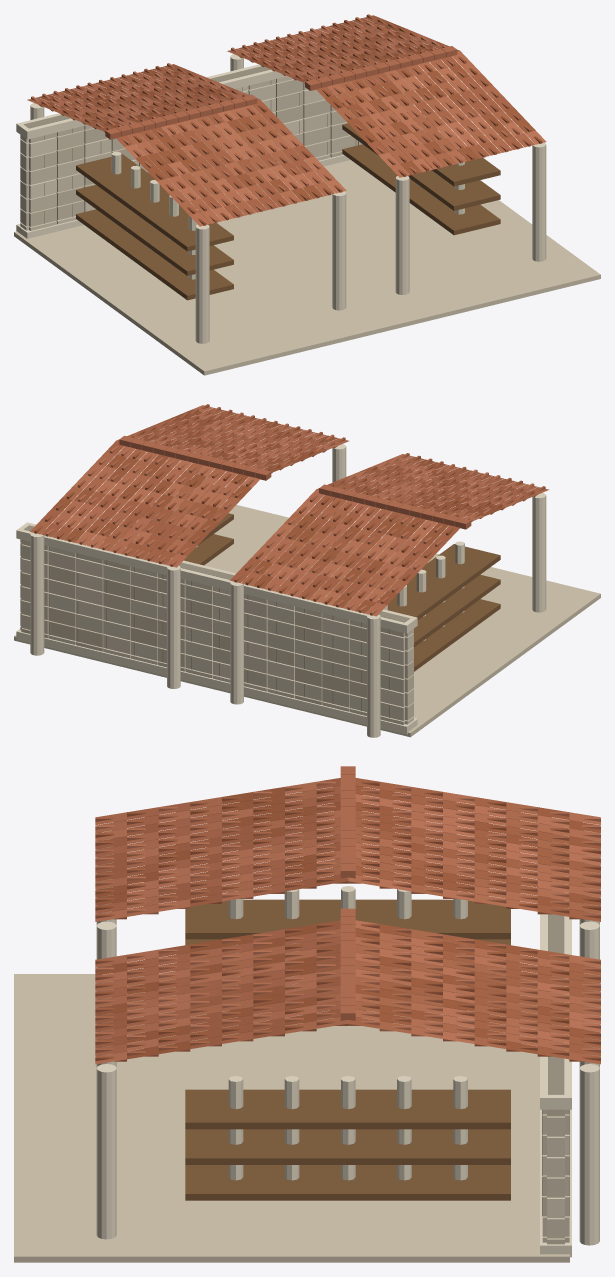
The picture shows the model from 3 angles, top to bottom: view 1: azimuth 30°, elevation 25°; view 2: azimuth 150°, elevation 25°; view 3: azimuth 270°, elevation 25°; orthographic projection. The views are drawn at different scales.
Parts seen in each view (by area): view 1: Bergfried – Steine, Säulen, Ziegel und Feuerstelle; view 2: Bergfried – Steine, Säulen, Ziegel und Feuerstelle; view 3: Bergfried – Steine, Säulen, Ziegel und Feuerstelle.
Boxes of the visible parts, x1=… form: Bergfried – Steine, Säulen, Ziegel und Feuerstelle: x1=14, y1=14, x2=600, y2=375; Bergfried – Steine, Säulen, Ziegel und Feuerstelle: x1=14, y1=404, x2=600, y2=737; Bergfried – Steine, Säulen, Ziegel und Feuerstelle: x1=14, y1=766, x2=600, y2=1262.
Size of the model in its own units: 1190 by 445 by 1045.
